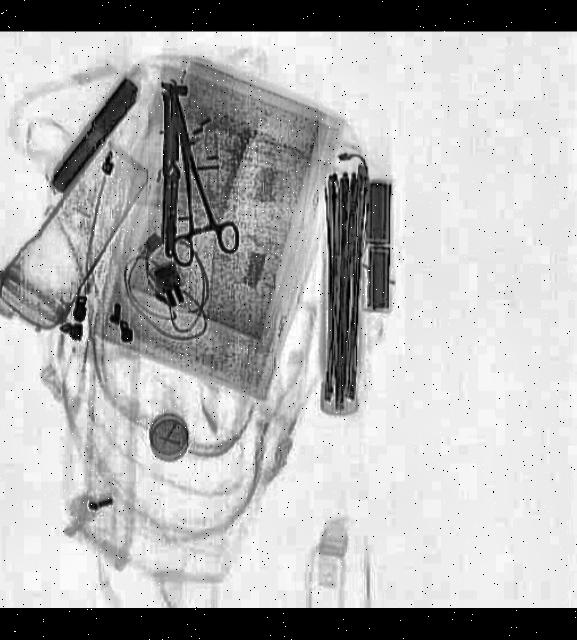Scissors: (138, 81, 241, 268)
